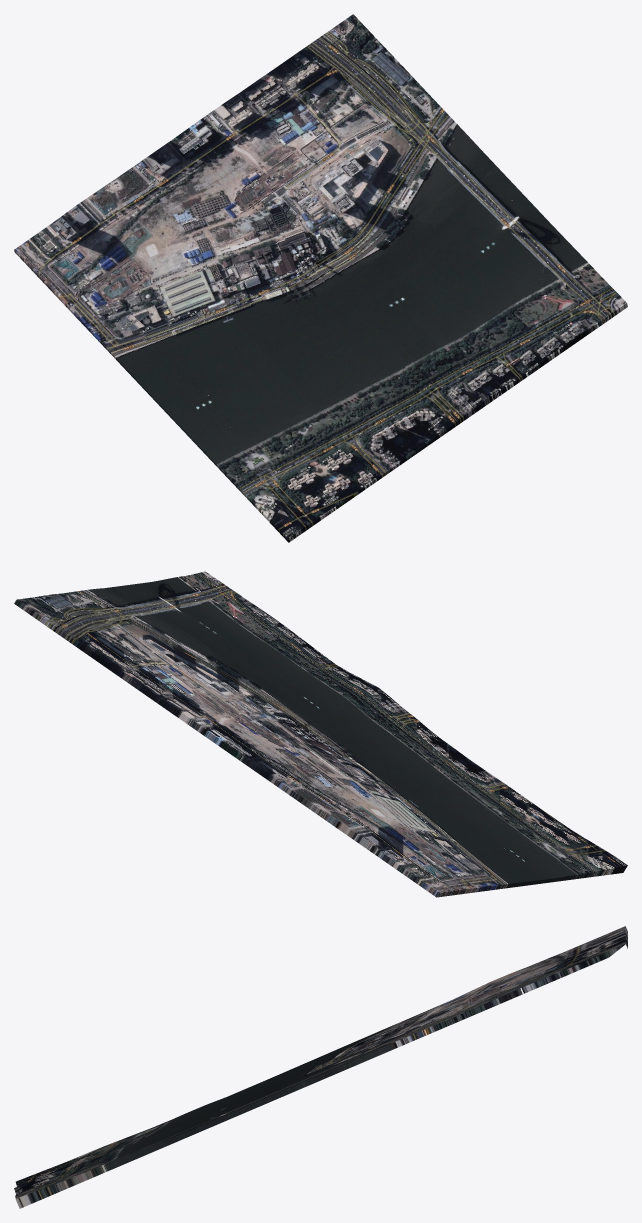
3 views of the same model, one above another, from view 1: azimuth 30°, elevation 25°; view 2: azimuth 150°, elevation 25°; view 3: azimuth 270°, elevation 25° (orthographic). The views are drawn at different scales.
Visible parts, largest first — view 1: 1_6_12; view 2: 1_6_12; view 3: 1_6_12.
Part boxes in pixels (bbox=[...]): 1_6_12: bbox=[14, 14, 627, 542]; 1_6_12: bbox=[14, 571, 627, 897]; 1_6_12: bbox=[14, 926, 627, 1208].
Size of the model in its own units: 1227 by 893 by 1130.
1 material, 1 textured.
